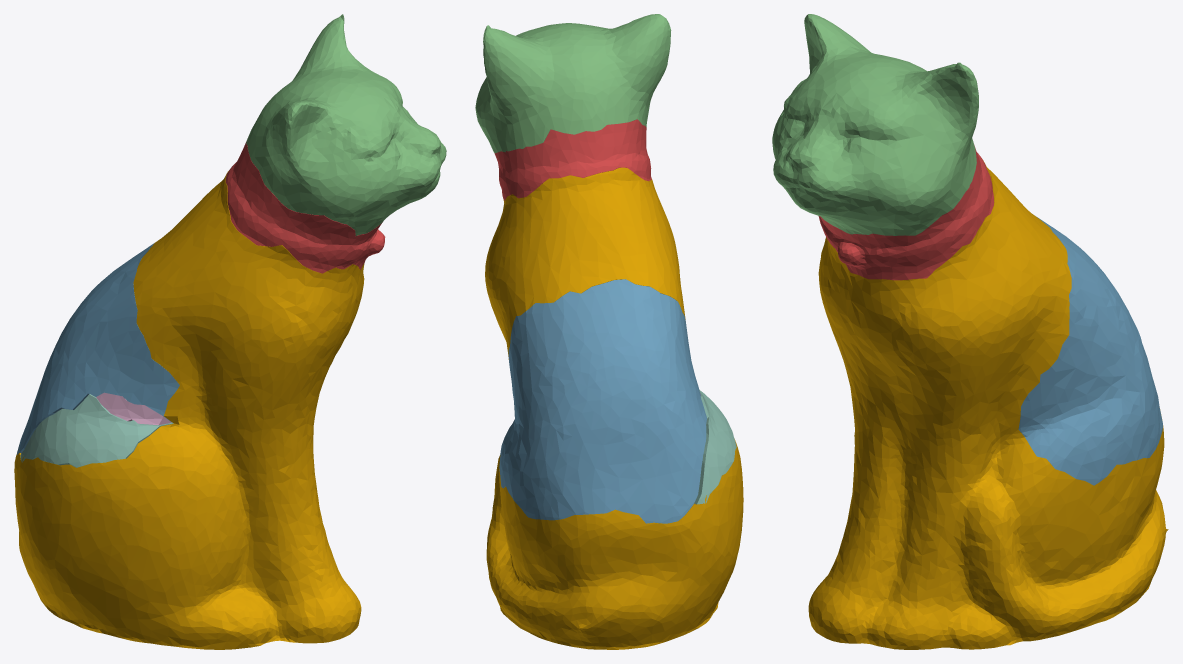
Rendered from fractured_47_7pcs.glb.
3 views of the same model, side by side, from view 1: azimuth 30°, elevation 25°; view 2: azimuth 150°, elevation 25°; view 3: azimuth 270°, elevation 25° (orthographic). The views are drawn at different scales.
Visible parts, largest first — view 1: piece_0.obj, piece_3.obj, piece_2.obj, piece_1.obj, piece_4.obj, piece_6.obj; view 2: piece_0.obj, piece_2.obj, piece_3.obj, piece_1.obj, piece_4.obj; view 3: piece_0.obj, piece_3.obj, piece_2.obj, piece_1.obj.
Part boxes in pixels (x1,y1,x2,y2): piece_0.obj: (14,171,364,649); piece_3.obj: (246,14,446,235); piece_2.obj: (16,243,179,454); piece_1.obj: (225,142,385,273); piece_4.obj: (20,394,173,467); piece_6.obj: (96,392,171,425); piece_0.obj: (485,167,743,649); piece_2.obj: (499,279,706,523); piece_3.obj: (475,14,671,153); piece_1.obj: (494,119,651,200); piece_4.obj: (694,390,736,504); piece_0.obj: (808,160,1168,649); piece_3.obj: (772,14,978,235); piece_2.obj: (1018,216,1162,485); piece_1.obj: (818,145,994,280).
Bounding box in the file's own units: 0.6079 × 0.9994 × 0.597.
